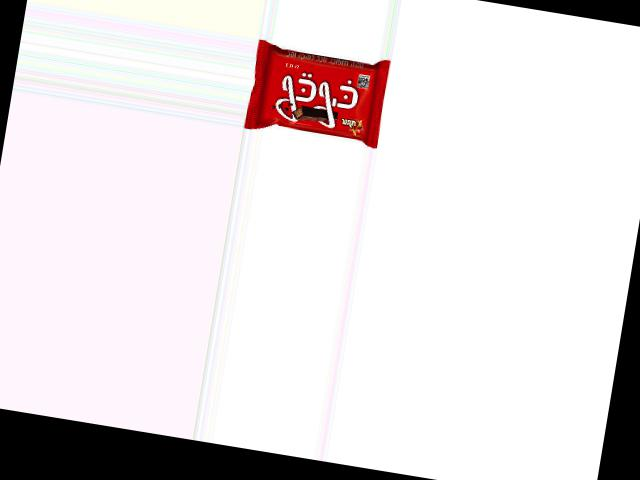chocolate: (245, 37, 390, 148)
